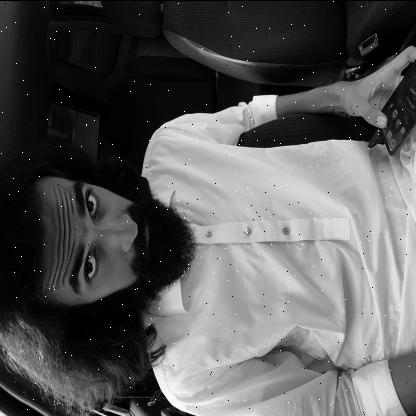no_seatbelt: (1, 149, 360, 413)
